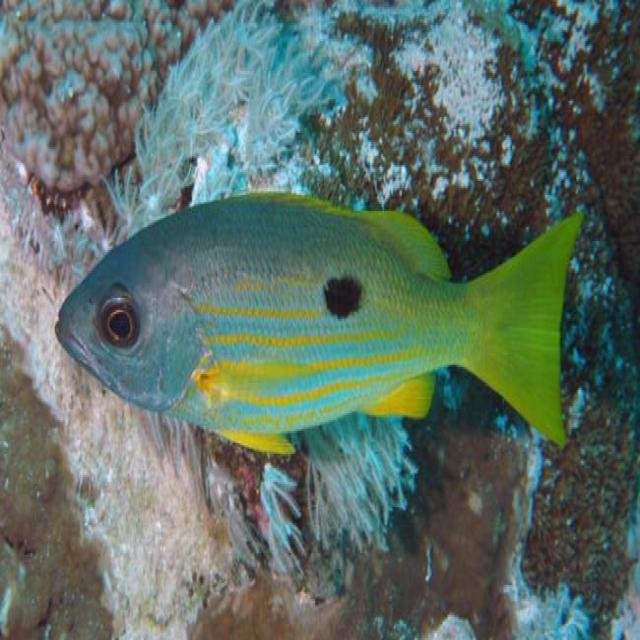ikan: (53, 187, 584, 458)
